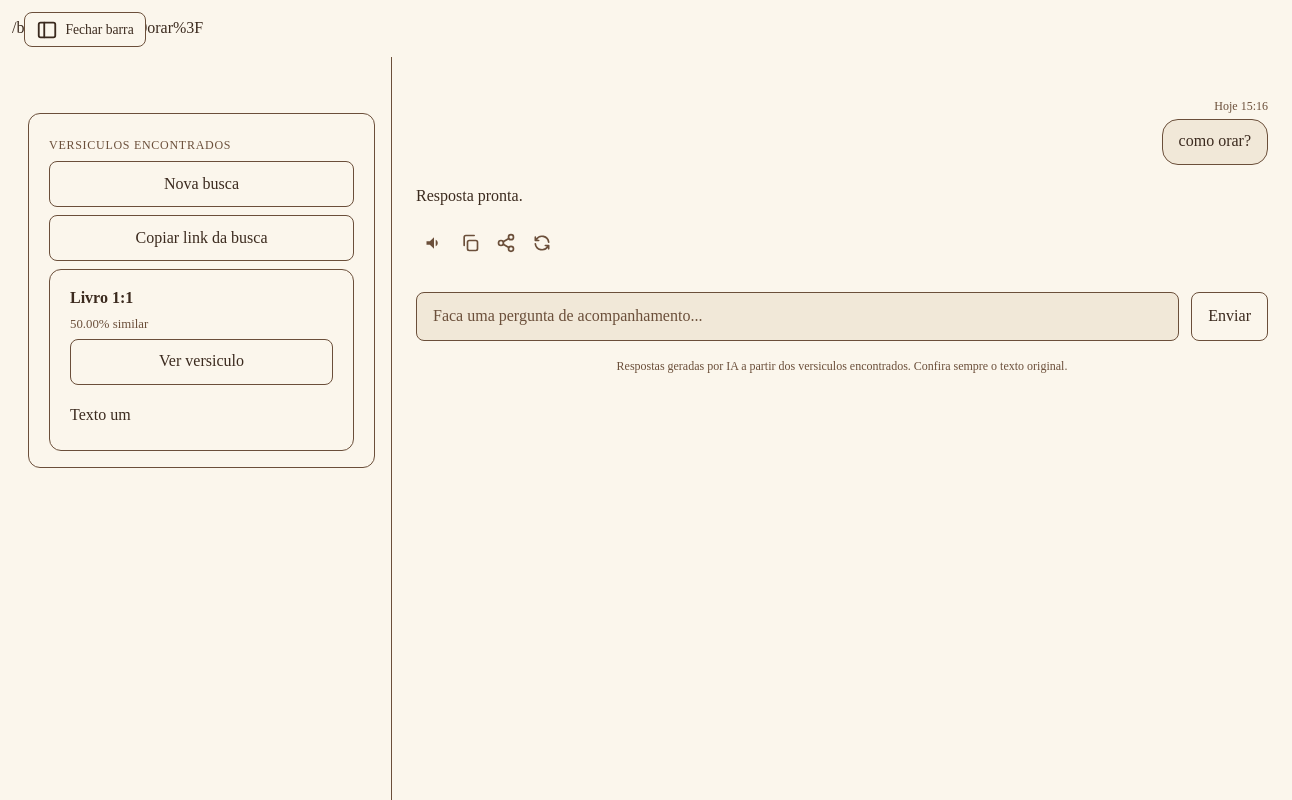
Test: buscas recentes › a busca feita aparece no historico e tocar nela busca de novo
Check: the text "Resposta pronta." is shown, box [416,187,523,204]
What coordinates should you click on to do the following:
click the button "Nova busca"
I would click on:
 (202, 184)
Its box is [49,161,354,207].
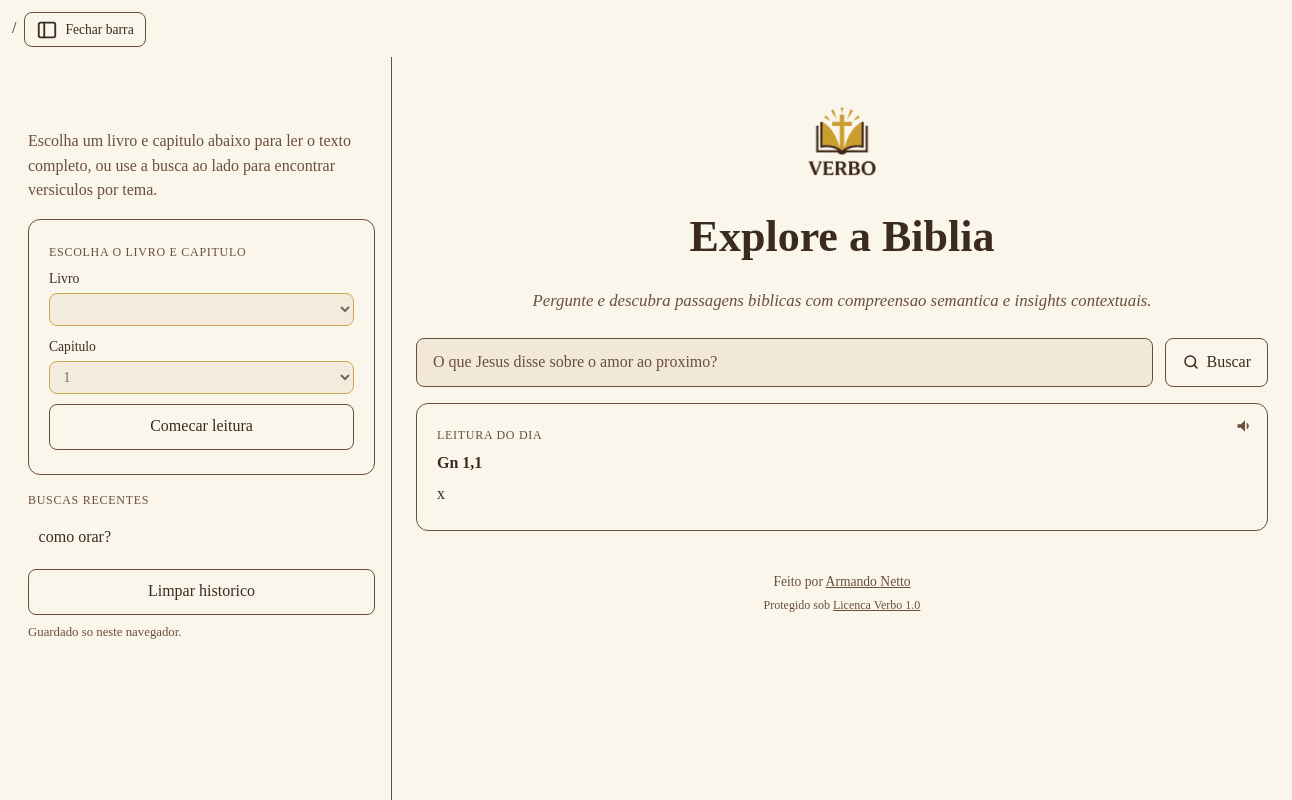
Check: the field named "Qual e a sua pergunta?" is shown, box [416,338,1153,387]
What coordinates should you click on to do the following:
click the button "como orar?"
I would click on:
 (75, 536)
Its box is [28,517,375,557].
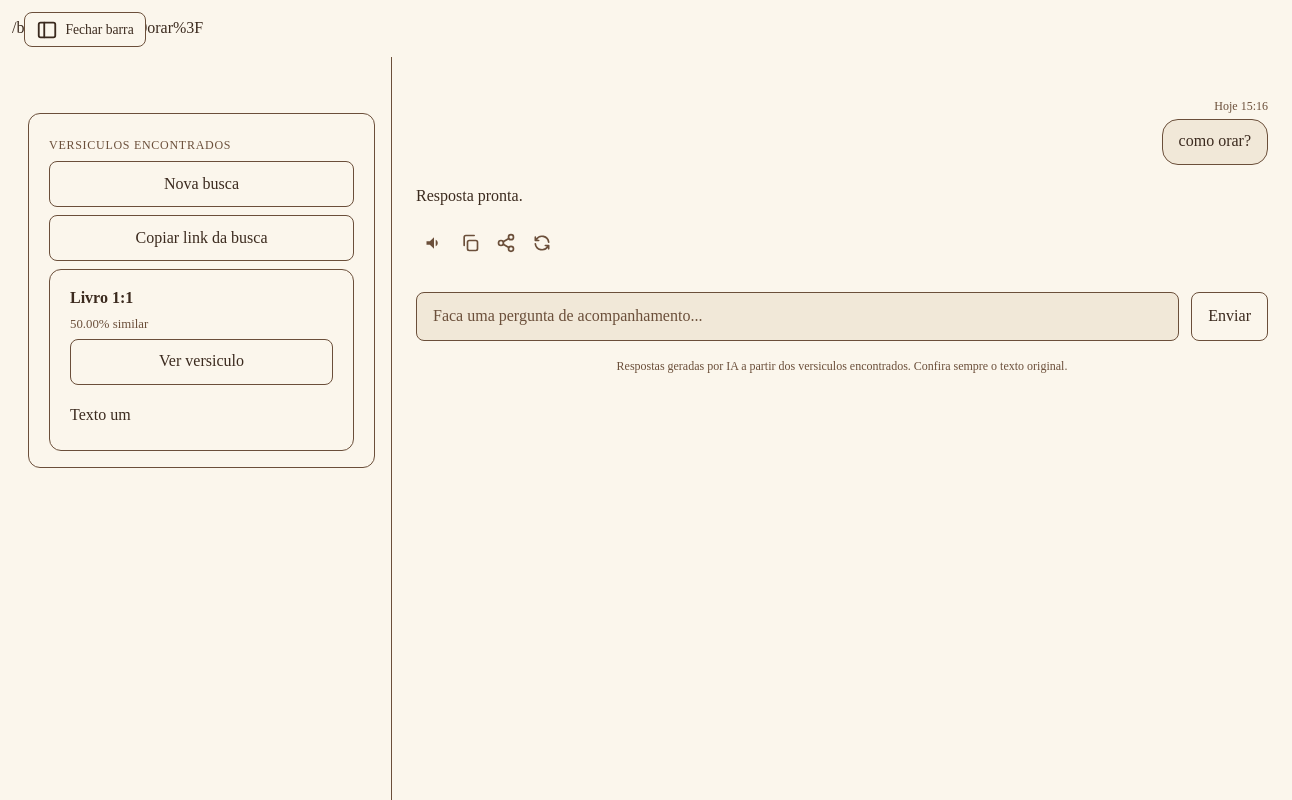
Check: the text "Resposta pronta." is shown, box [416,187,523,204]
